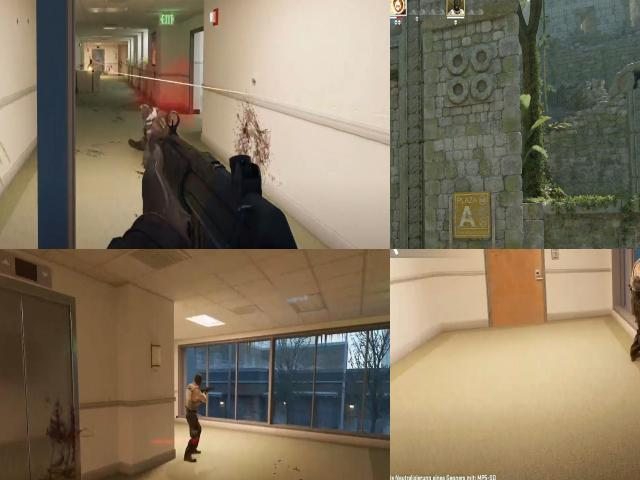Dead: (127, 96, 170, 150)
T: (182, 376, 211, 428), (628, 254, 640, 302)
T-Head: (190, 370, 206, 392)
